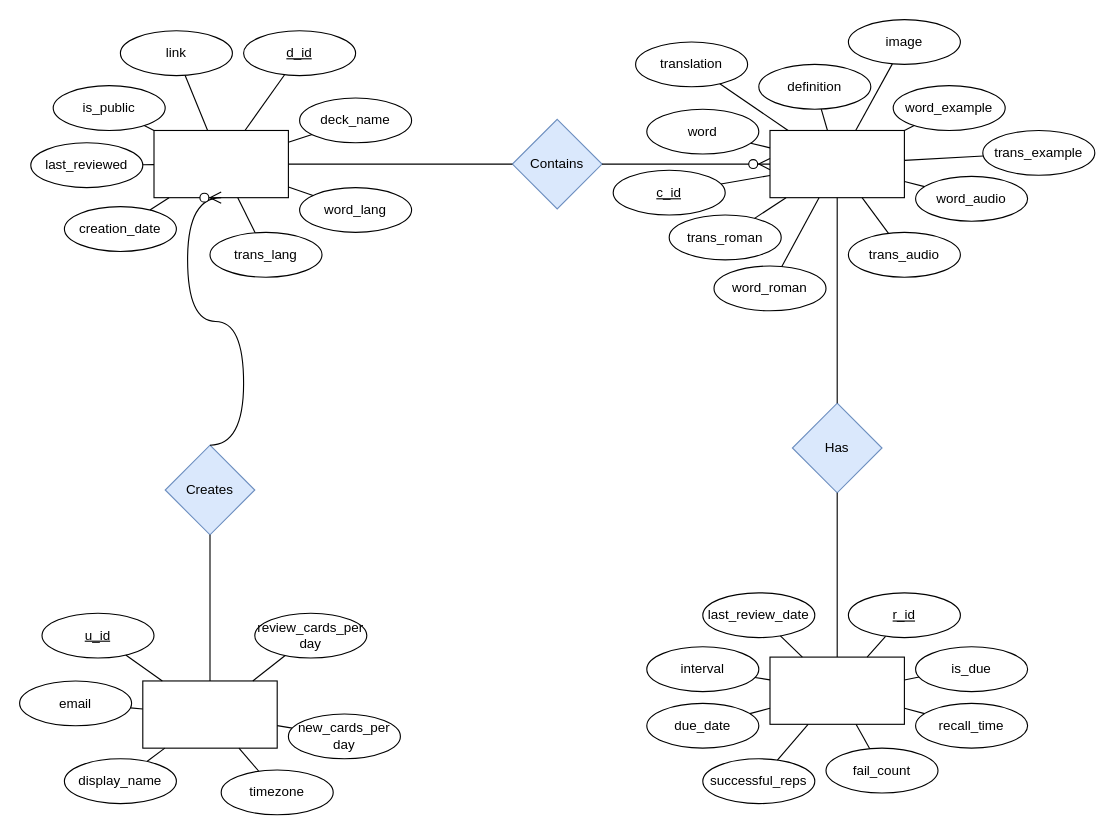
Image size: 1114x834. Some labels were removed from this diagram. Each missing label, with the box of its shape:
Cards: (769, 129, 904, 198)
Decks: (153, 129, 288, 198)
Review: (769, 656, 904, 724)
Users: (142, 680, 277, 748)
